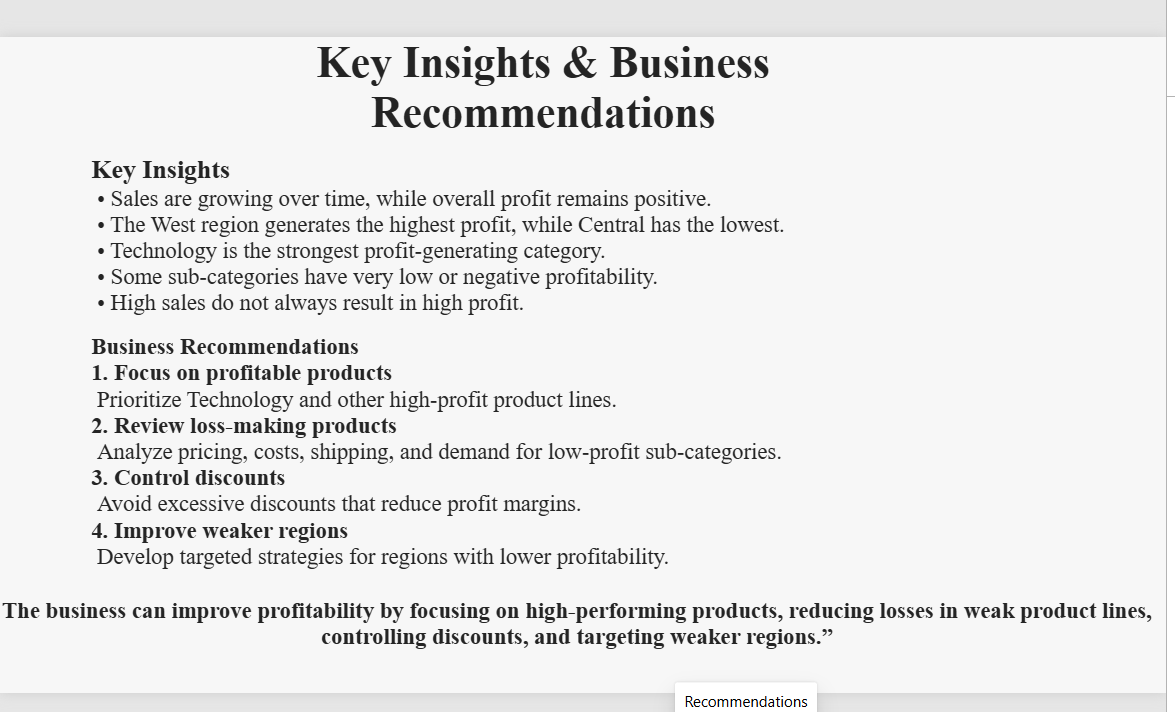

The page's visual inventory and layout, read from the dashboard file:
{"tool":"powerbi","page":{"name":"Recommendations","canvas":[1920,1080],"ordinal":3},"visuals":[{"type":"textbox","box":[391.1,0,1006.5,279.9],"z":0},{"type":"textbox","box":[150.3,193.5,1593.1,317],"z":1000},{"type":"textbox","box":[150.3,469.3,1689.9,537.2],"z":2000},{"type":"textbox","box":[0,922.1,1899.8,158.5],"z":3000}]}

Visuals, with their boxes on the page's 1920x1080 design canvas (x1, y1, x2, y2). These are canvas units, not pixel positions in the 1175x712 screenshot, which may show the page scaled, cropped or inside an application window:
textbox: bbox(391, 0, 1398, 280)
textbox: bbox(150, 194, 1743, 510)
textbox: bbox(150, 469, 1840, 1006)
textbox: bbox(0, 922, 1900, 1081)
